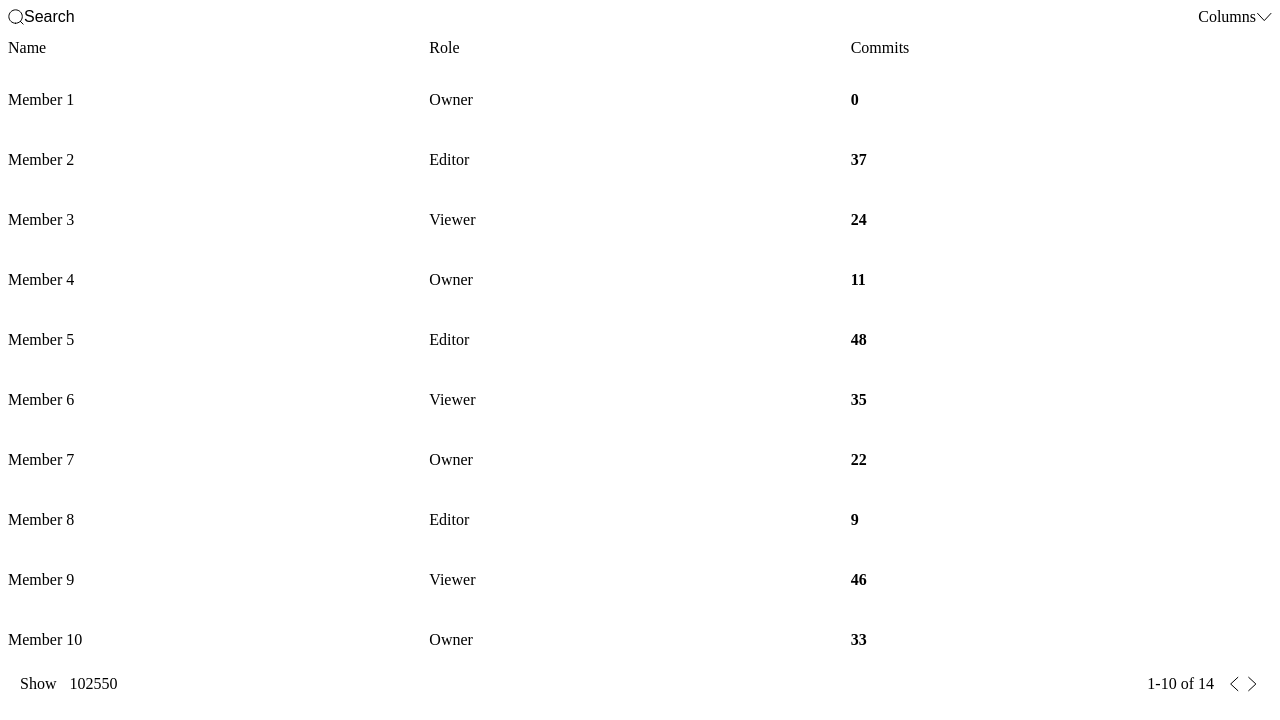
it: DataTable › hides columns from the Columns menu and pages through rows
Click the button "Columns" at [1235, 17], box [1198, 8, 1272, 26]
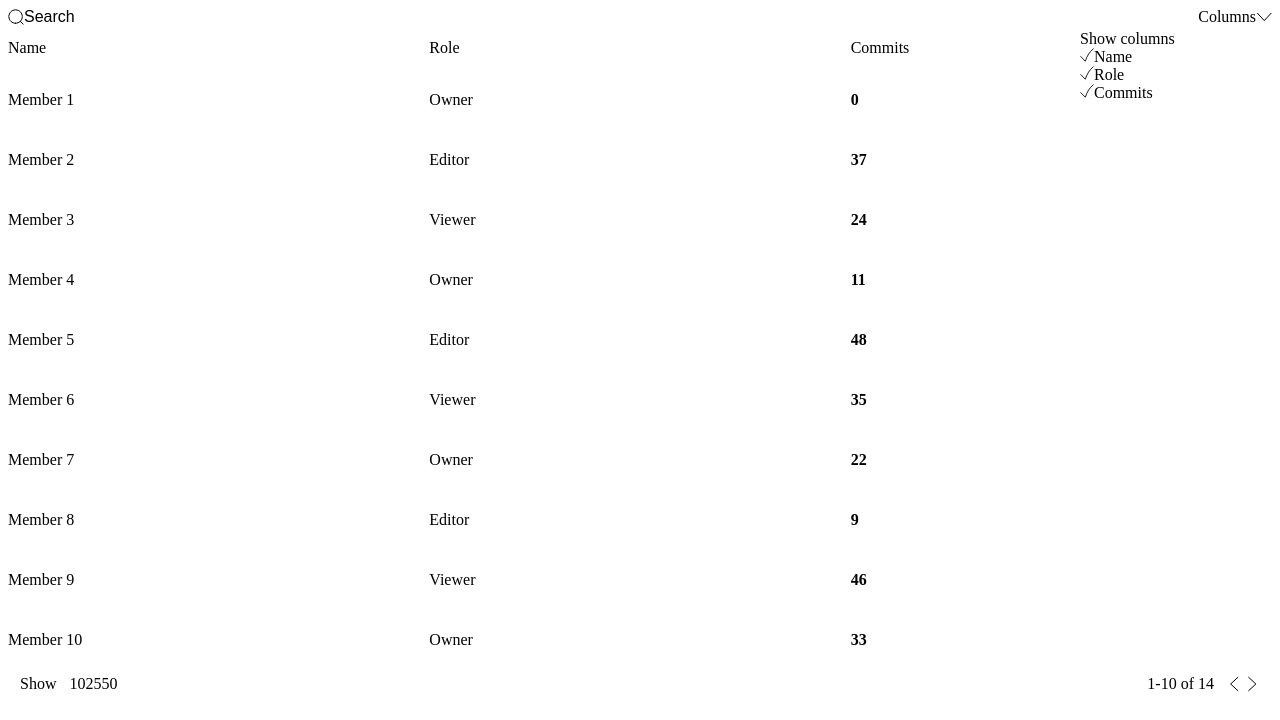
Click the menu item "Role" at [1102, 74], box [1080, 66, 1124, 83]
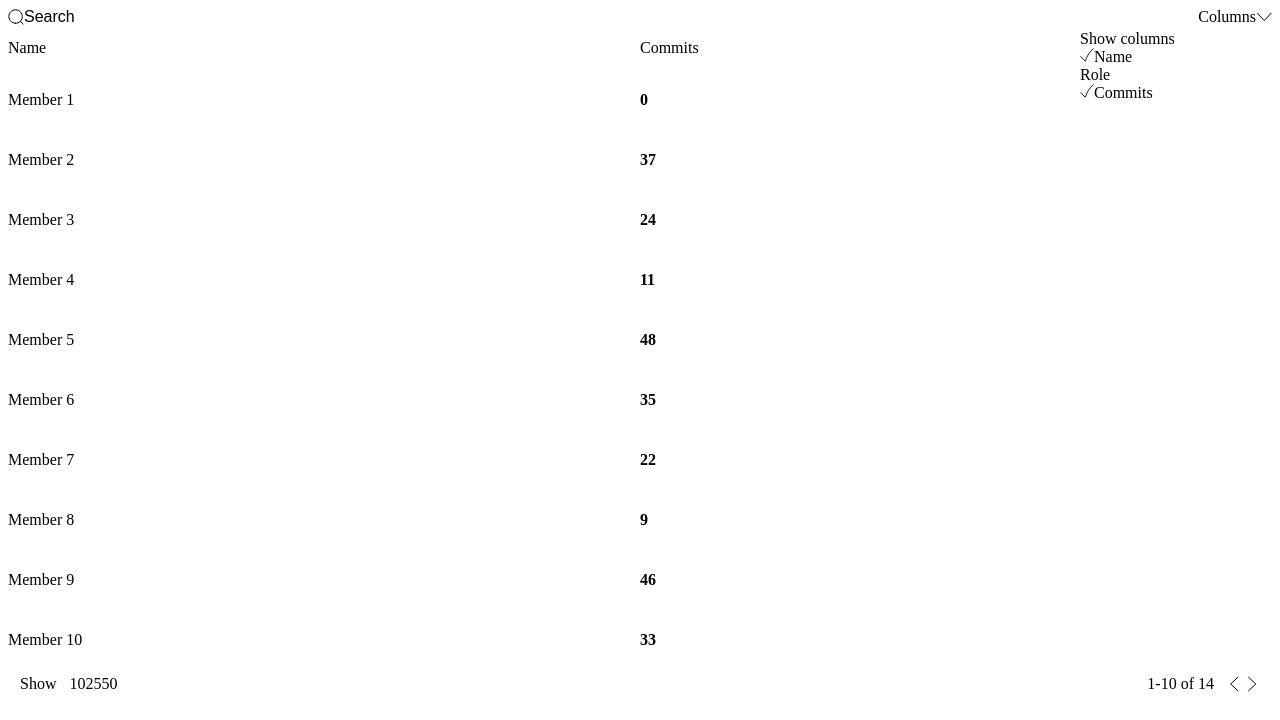
Now the menu item "Role" is not checked, box [1080, 66, 1110, 83]
Press Escape
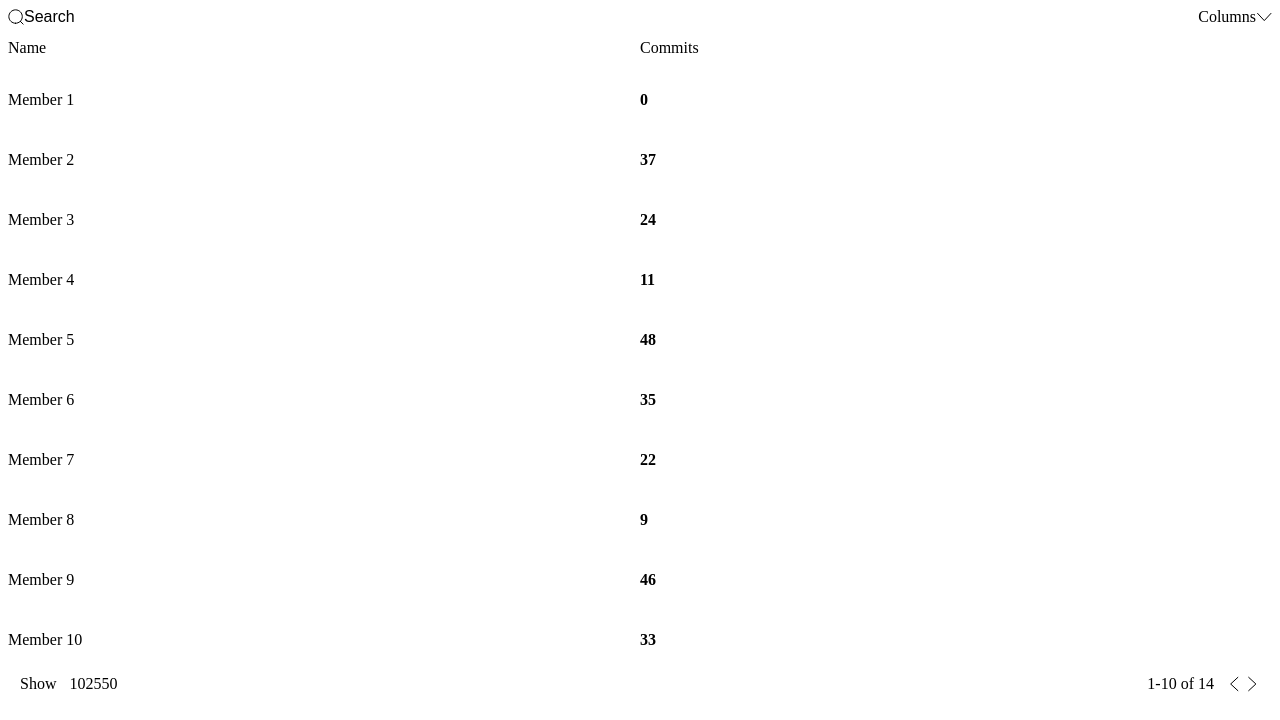
Click the button named "Next page" at [1252, 684], box [1244, 676, 1260, 692]
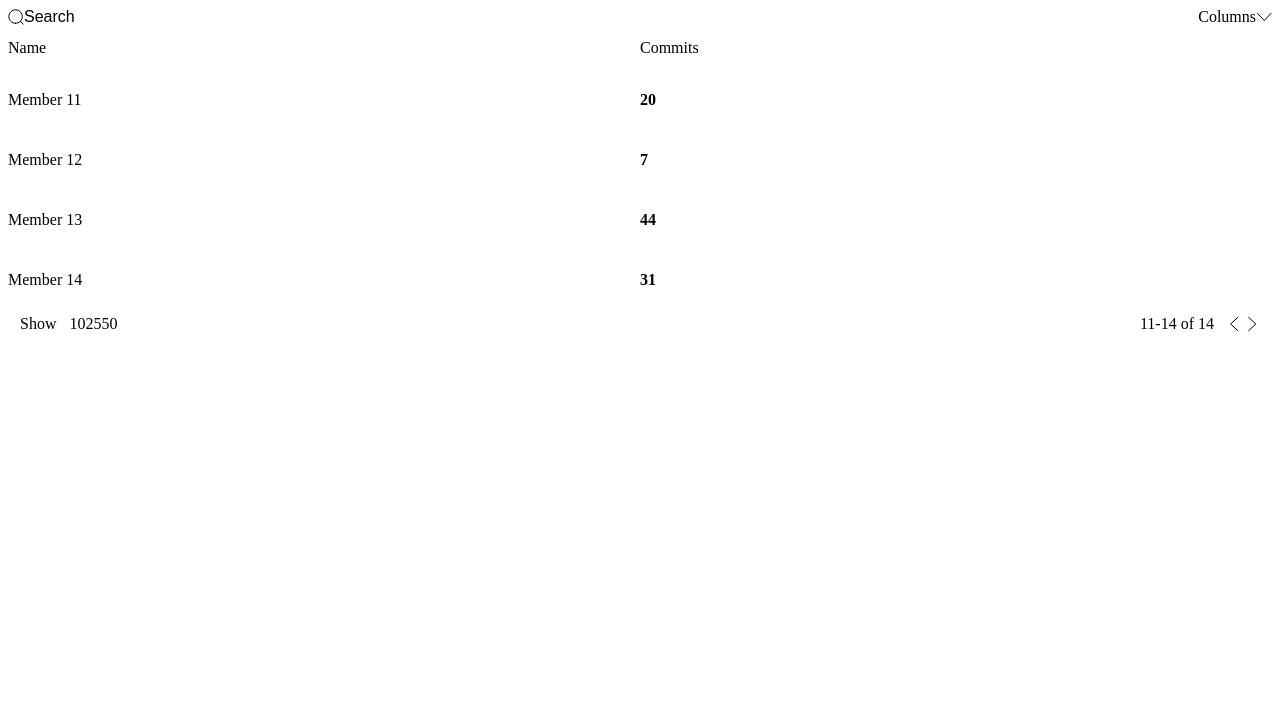
Now the text "11-14 of 14" is shown, box [1140, 314, 1214, 334]
